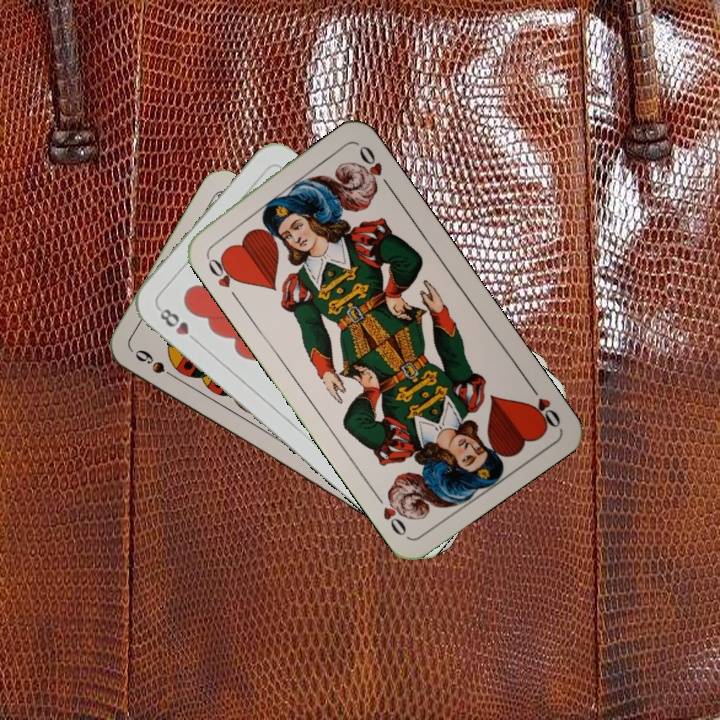H8: (153, 303, 202, 347)
HO: (202, 249, 244, 302), (523, 378, 564, 432)
S9: (131, 345, 182, 384)
